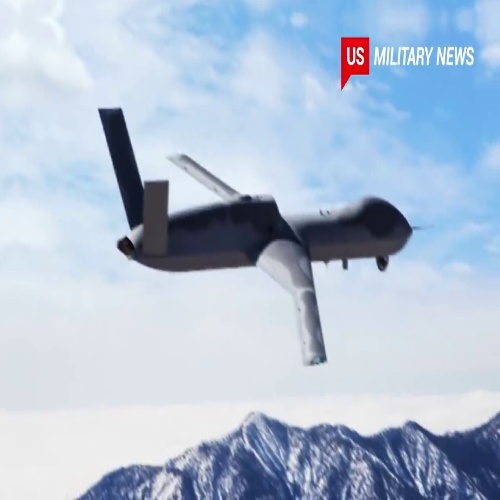uav: (91, 107, 414, 369)
